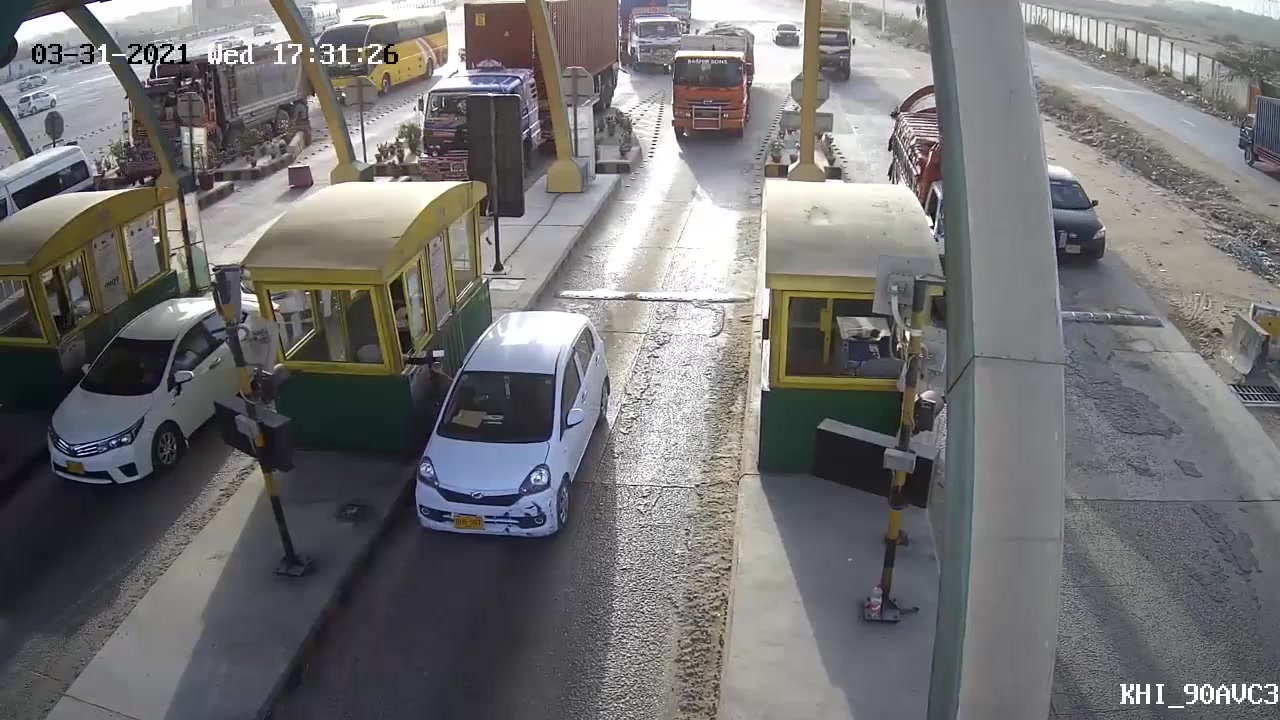F5: (412, 312, 604, 546)
